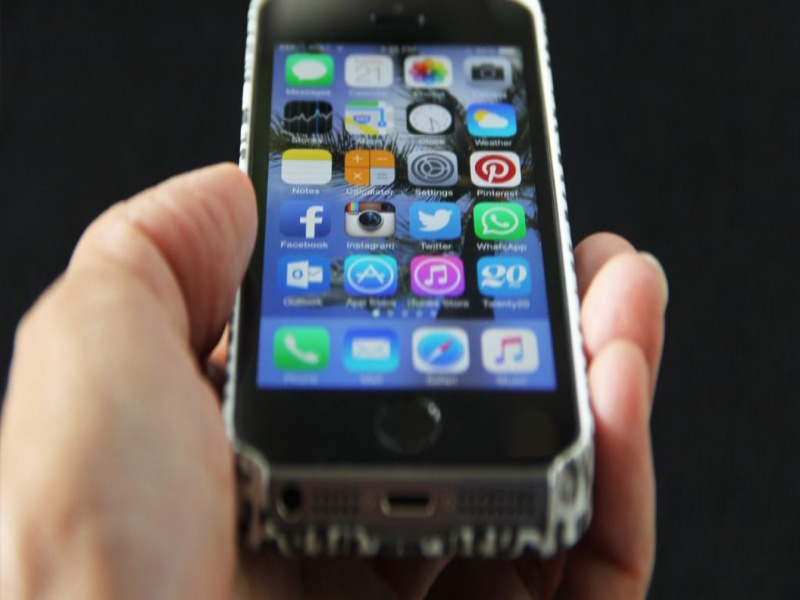mobile: (220, 5, 626, 550)
